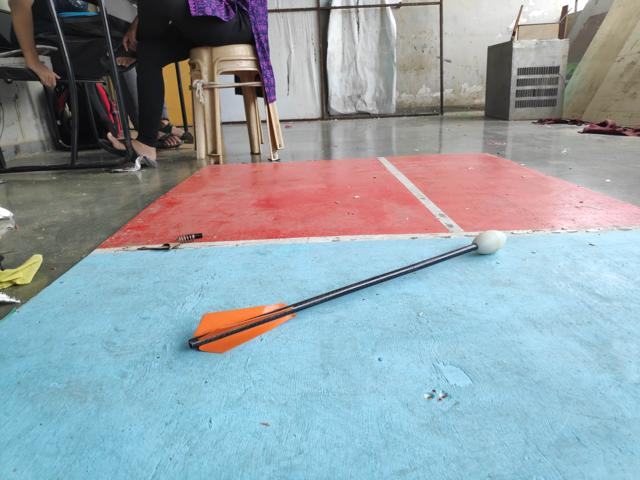Head: (469, 227, 509, 255)
Tail: (184, 301, 297, 357)
